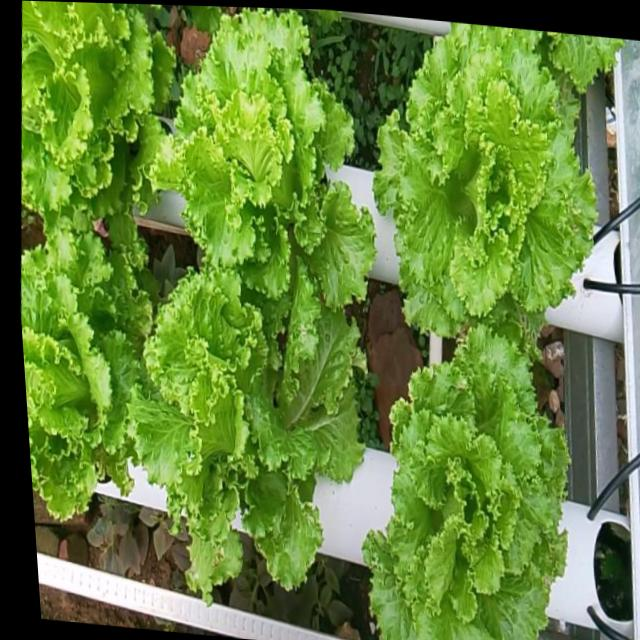Mature: (129, 267, 363, 631), (371, 22, 606, 344), (149, 8, 373, 310), (361, 323, 569, 640), (21, 233, 149, 524), (21, 1, 171, 248)
